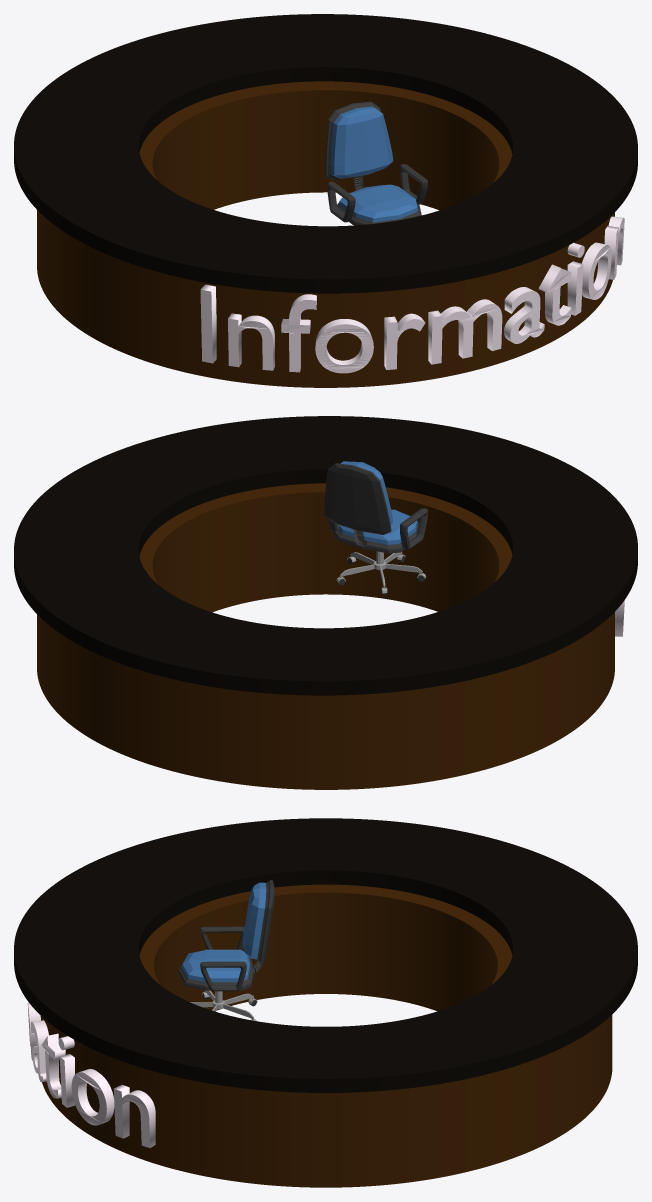
File: info-desk.fbx
The picture shows the model from 3 angles, top to bottom: view 1: azimuth 30°, elevation 25°; view 2: azimuth 150°, elevation 25°; view 3: azimuth 270°, elevation 25°; orthographic projection.
Visible parts, largest first — view 1: Cylinder.001, Cylinder, Information, OfficeChair; view 2: Cylinder.001, Cylinder, OfficeChair; view 3: Cylinder.001, Cylinder, Information, OfficeChair.
Part boxes in pixels (<box>): Cylinder.001: <box>14,14,637,293</box>; Cylinder: <box>37,81,614,387</box>; Information: <box>200,216,624,373</box>; OfficeChair: <box>324,101,427,225</box>; Cylinder.001: <box>14,416,637,695</box>; Cylinder: <box>37,483,614,789</box>; OfficeChair: <box>324,461,427,595</box>; Cylinder.001: <box>14,818,637,1092</box>; Cylinder: <box>40,884,612,1187</box>; Information: <box>27,1001,155,1147</box>; OfficeChair: <box>178,880,274,1021</box>.
Size of the model in its own units: 214 by 69.01 by 216.
